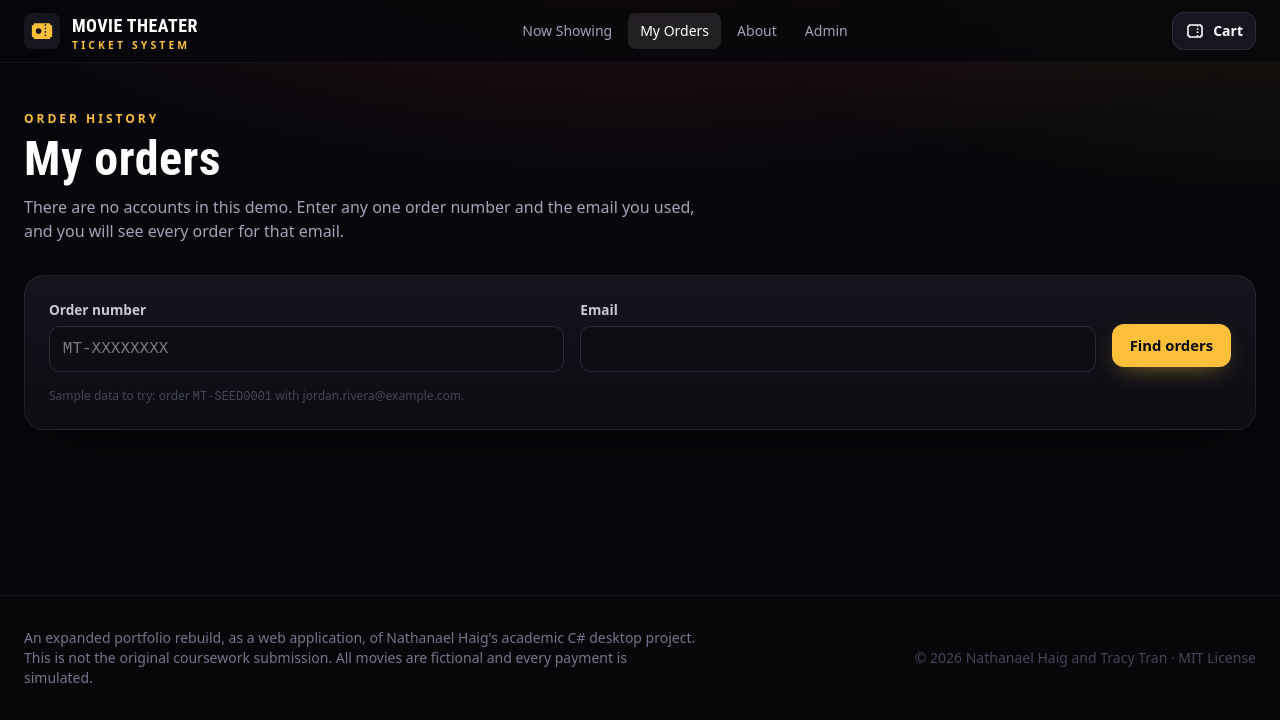
OrdersPage › closes the confirmation dialog with Escape without cancelling
Type "MT-7K3QX9AB" into the field labelled "Order number". click: (307, 349)
box: [49, 326, 564, 372]
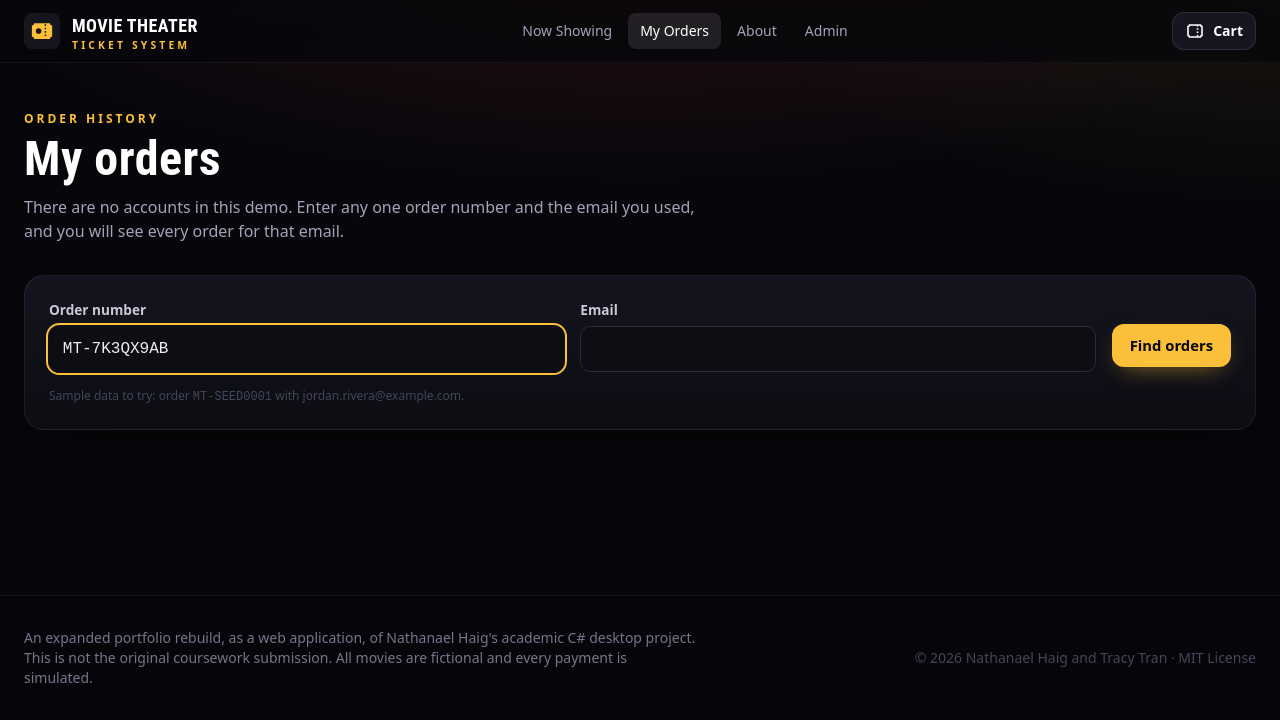
Type "avery@example.com" into the field labelled "Email". click: (838, 349)
box: [580, 326, 1096, 372]
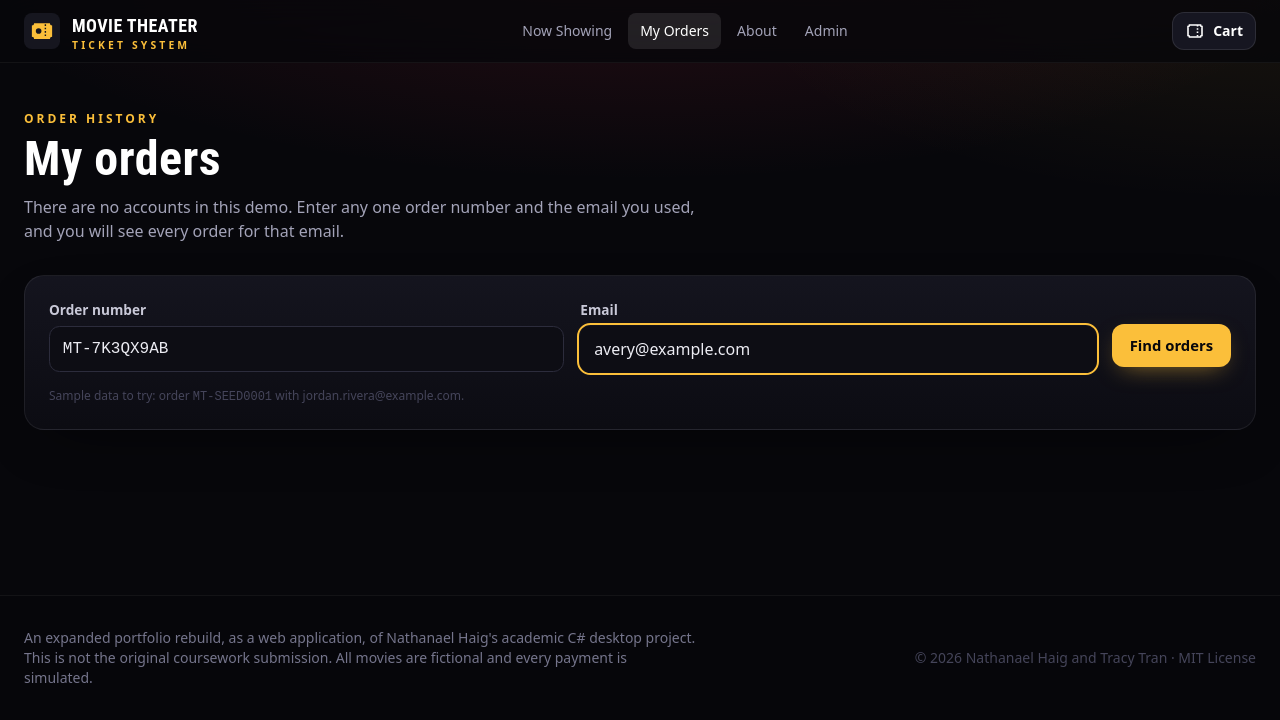
Click the button "Find orders". click: (1171, 346)
box: [1112, 324, 1231, 367]
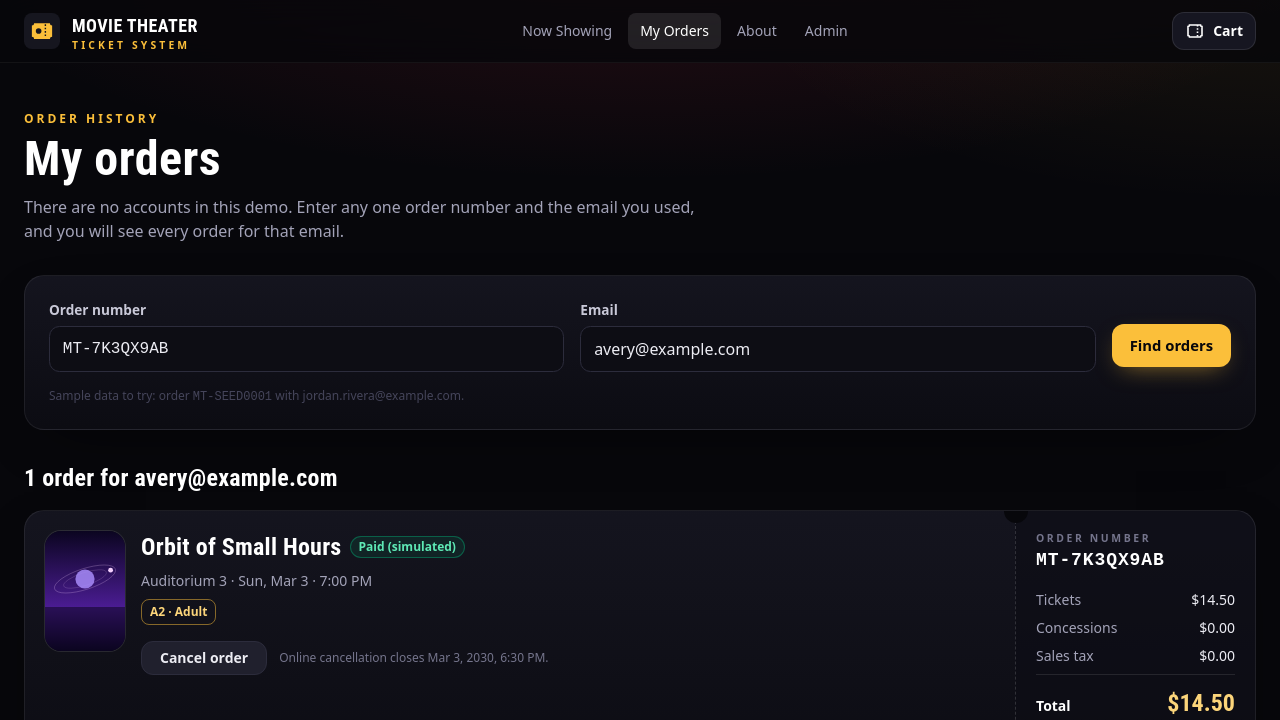
Click the button "Cancel order". click: (204, 658)
box: [141, 641, 267, 675]
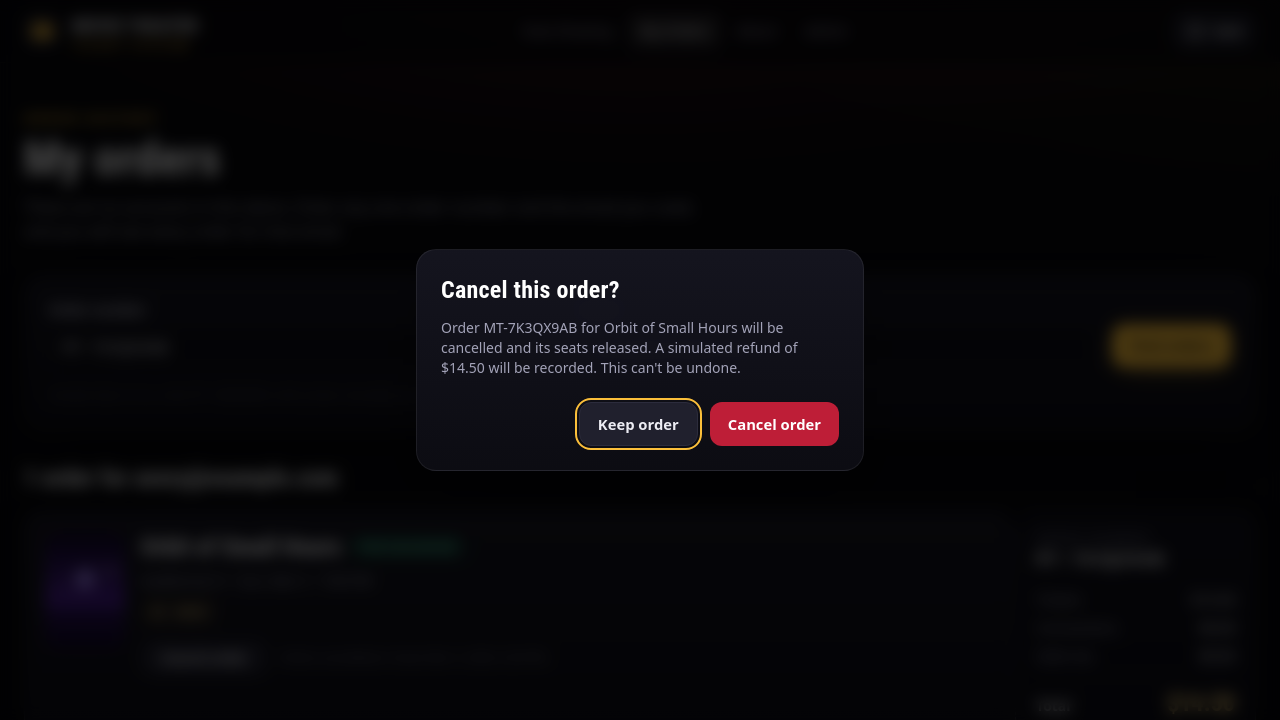
Press Escape
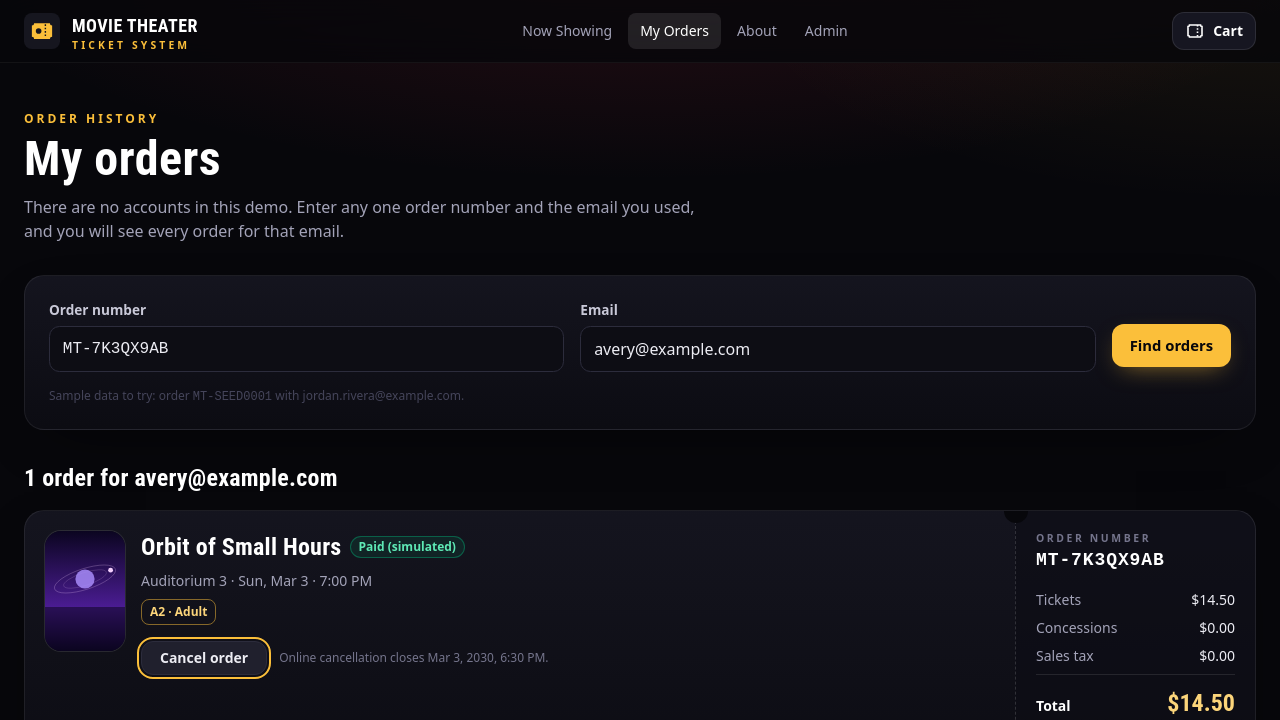
Check: the dialog is gone
